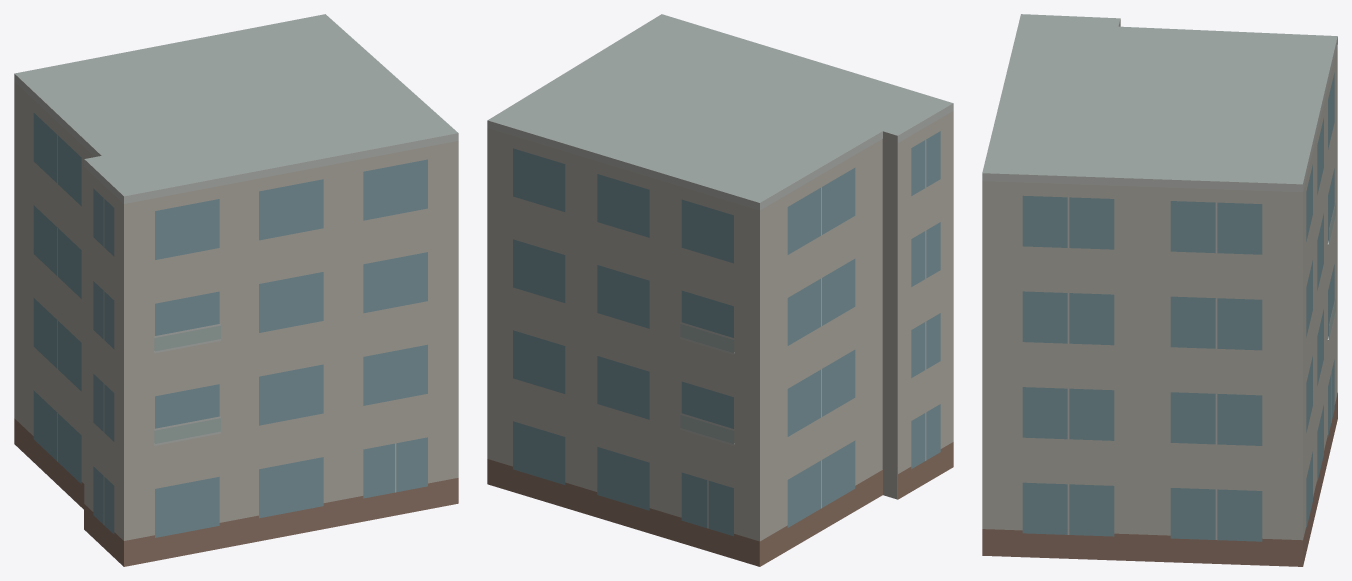
The model's file is survey-upis-32533755.glb.
3 renders of one model, left to right at view 1: azimuth 30°, elevation 25°; view 2: azimuth 150°, elevation 25°; view 3: azimuth 270°, elevation 25°, orthographic. The views are drawn at different scales.
Visible parts, largest first — view 1: survey-upis-32533755.tmp; view 2: survey-upis-32533755.tmp; view 3: survey-upis-32533755.tmp.
Part boxes in pixels (x1,y1,x2,y2): survey-upis-32533755.tmp: [14, 14, 458, 566]; survey-upis-32533755.tmp: [487, 14, 953, 566]; survey-upis-32533755.tmp: [982, 14, 1337, 566].
Size of the model in its own units: 11.33 by 11.85 by 9.99.
